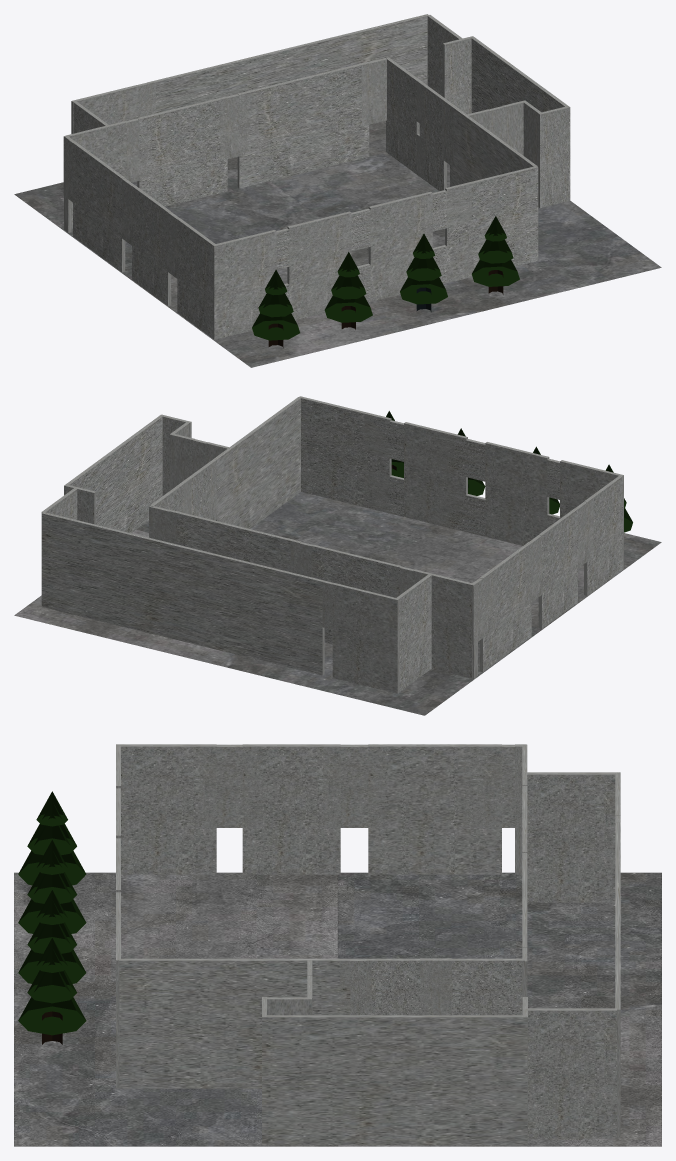
Rendered from wareeton2.obj.
3 renders of one model, top to bottom at view 1: azimuth 30°, elevation 25°; view 2: azimuth 150°, elevation 25°; view 3: azimuth 270°, elevation 25°, orthographic. The views are drawn at different scales.
Parts seen in each view (by area): view 1: Plane_Plane_Material.002, Plane_Plane_Material.003, Plane_Plane_Material.004, Plane_Plane_Material.007, Plane_Plane_Material.013, Plane_Plane_Material.009; view 2: Plane_Plane_Material.002, Plane_Plane_Material.003; view 3: Plane_Plane_Material.002, Plane_Plane_Material.003, Plane_Plane_Material.009, Plane_Plane_Material.007, Plane_Plane_Material.013, Plane_Plane_Material.004.
Boxes of the visible parts, left/top/right/bottom form: Plane_Plane_Material.002: left=63, top=14, right=570, bottom=339; Plane_Plane_Material.003: left=14, top=120, right=661, bottom=367; Plane_Plane_Material.004: left=400, top=234, right=447, bottom=304; Plane_Plane_Material.007: left=324, top=252, right=372, bottom=322; Plane_Plane_Material.013: left=252, top=269, right=299, bottom=340; Plane_Plane_Material.009: left=471, top=216, right=519, bottom=286; Plane_Plane_Material.002: left=41, top=396, right=623, bottom=693; Plane_Plane_Material.003: left=14, top=492, right=661, bottom=715; Plane_Plane_Material.002: left=116, top=744, right=620, bottom=1145; Plane_Plane_Material.003: left=14, top=872, right=661, bottom=1146; Plane_Plane_Material.009: left=18, top=937, right=86, bottom=1035; Plane_Plane_Material.007: left=18, top=839, right=86, bottom=933; Plane_Plane_Material.013: left=18, top=791, right=86, bottom=885; Plane_Plane_Material.004: left=18, top=890, right=86, bottom=983.
Size of the model in its own units: 92.86 by 20.41 by 92.86.
